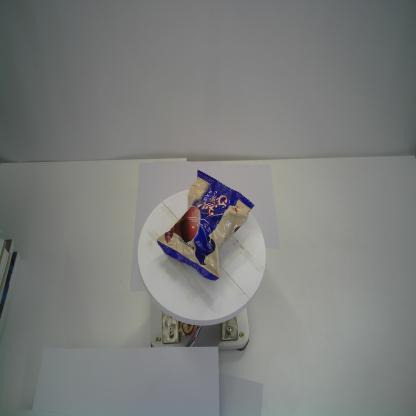Dessert: (153, 166, 255, 281)
